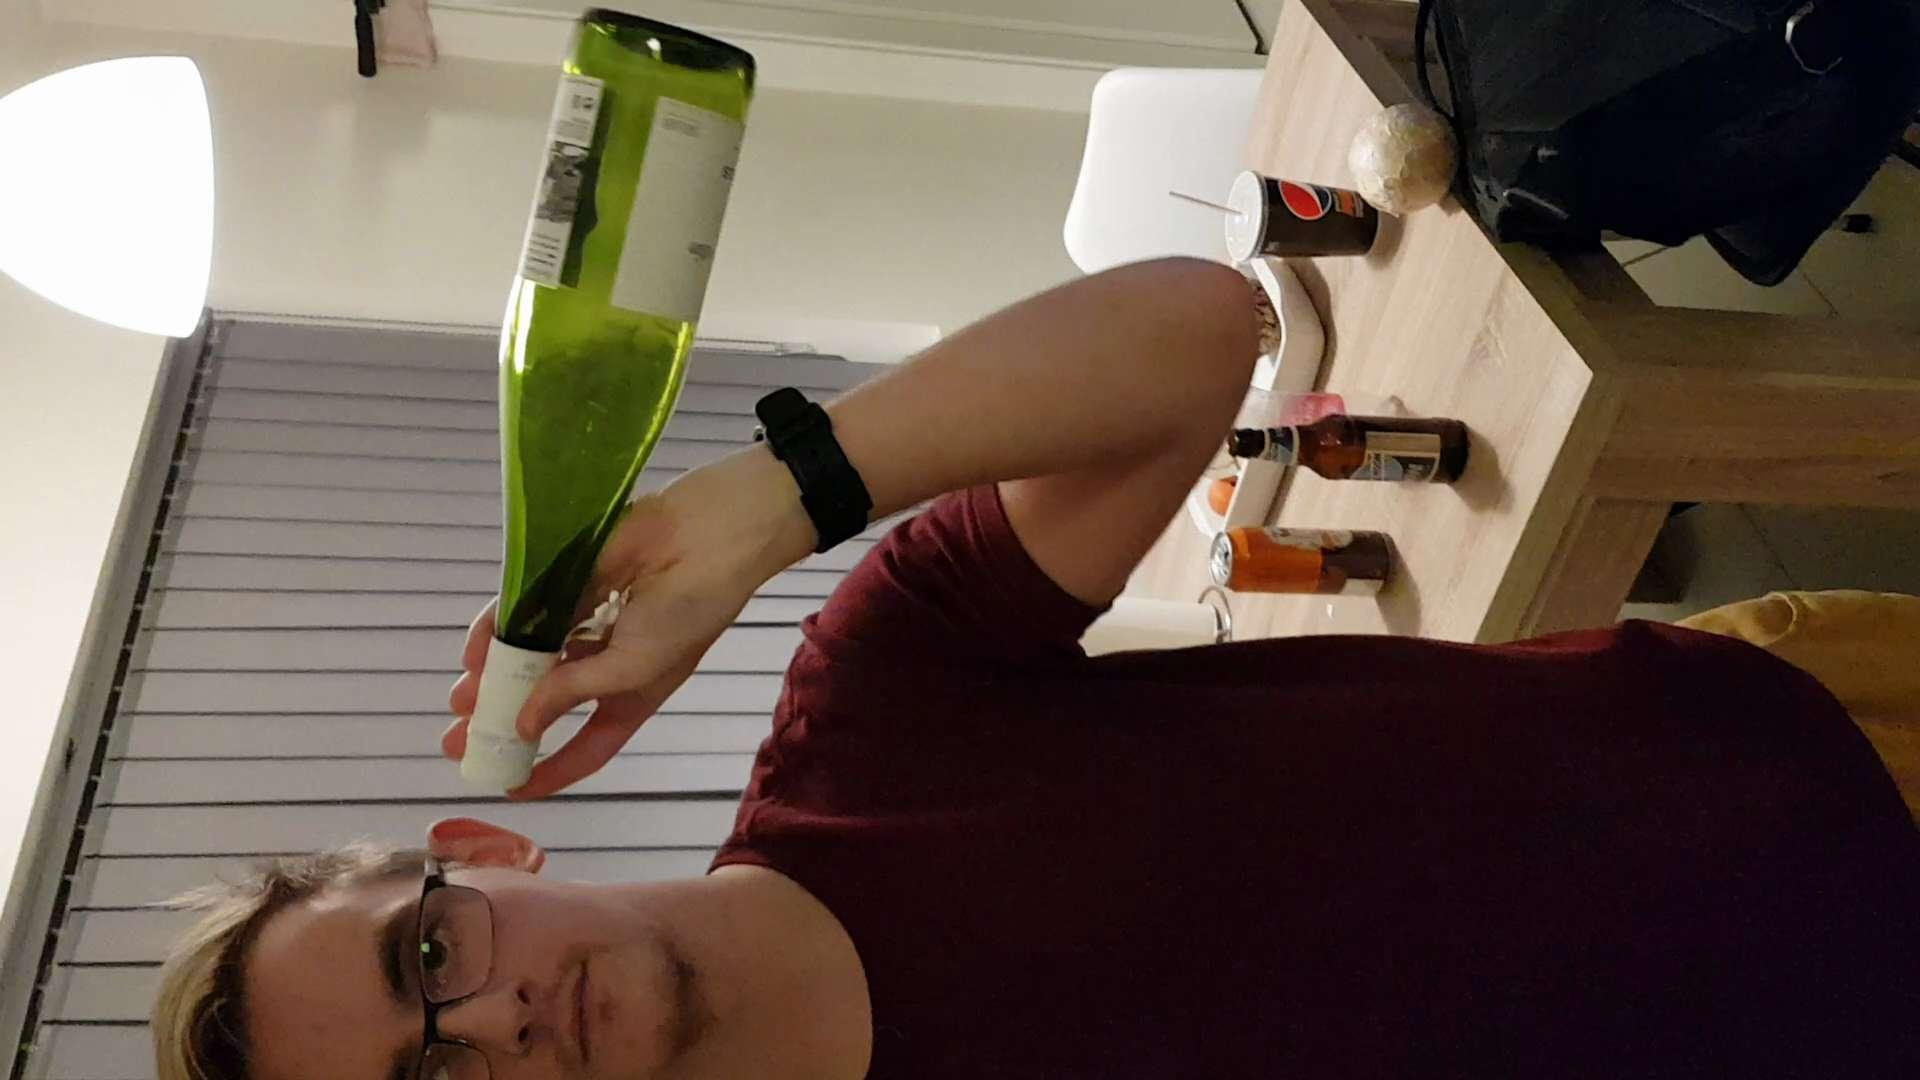Bottle: (440, 7, 767, 775), (1222, 410, 1478, 491)
Can: (1207, 520, 1398, 611)
Sphere: (1346, 96, 1455, 222)
